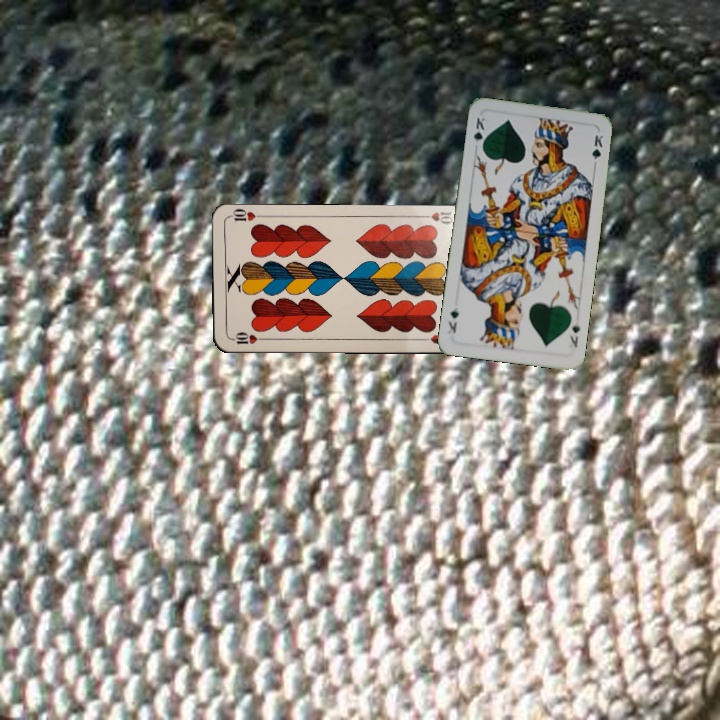GK: (469, 113, 487, 153), (566, 318, 583, 350)
H10: (415, 208, 456, 228), (226, 328, 267, 347)
